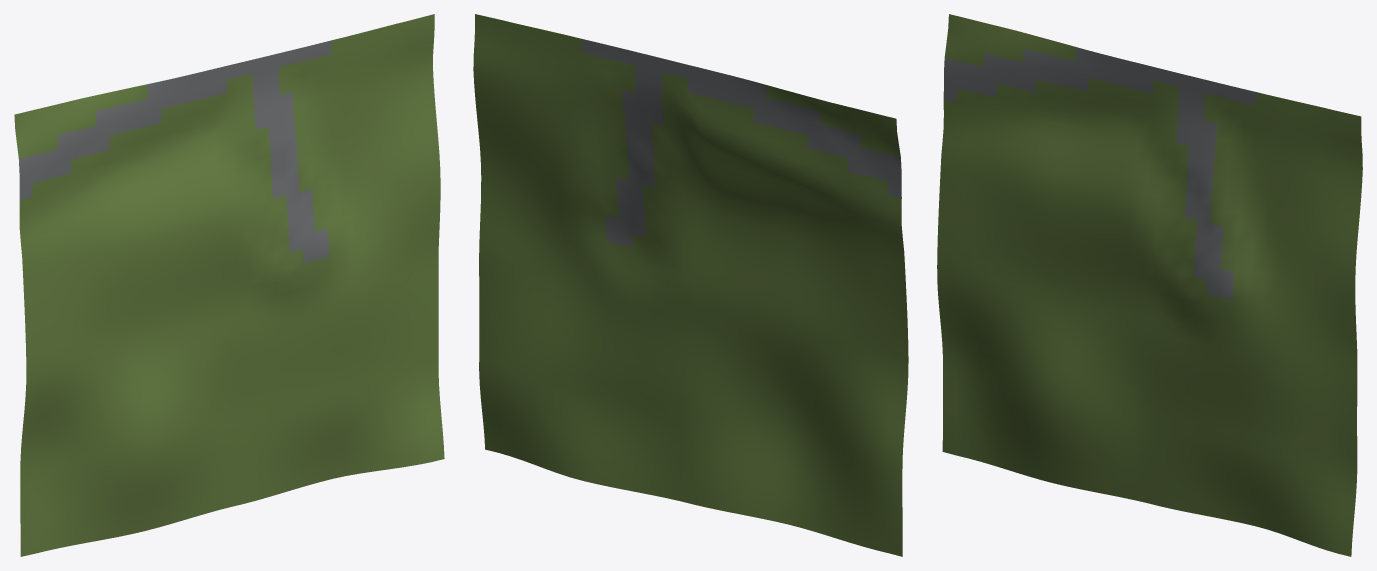
File: island_terrain_03_08.obj
3 renders of one model, left to right at view 1: azimuth 30°, elevation 25°; view 2: azimuth 150°, elevation 25°; view 3: azimuth 330°, elevation 25°, orthographic. The views are drawn at different scales.
Parts seen in each view (by area): view 1: island_terrain_03_08; view 2: island_terrain_03_08; view 3: island_terrain_03_08.
Part boxes in pixels (left/top/right/bottom): island_terrain_03_08: left=14, top=14, right=444, bottom=556; island_terrain_03_08: left=473, top=14, right=908, bottom=556; island_terrain_03_08: left=937, top=14, right=1362, bottom=556.
Size of the model in its own units: 256 by 256 by 18.53.
